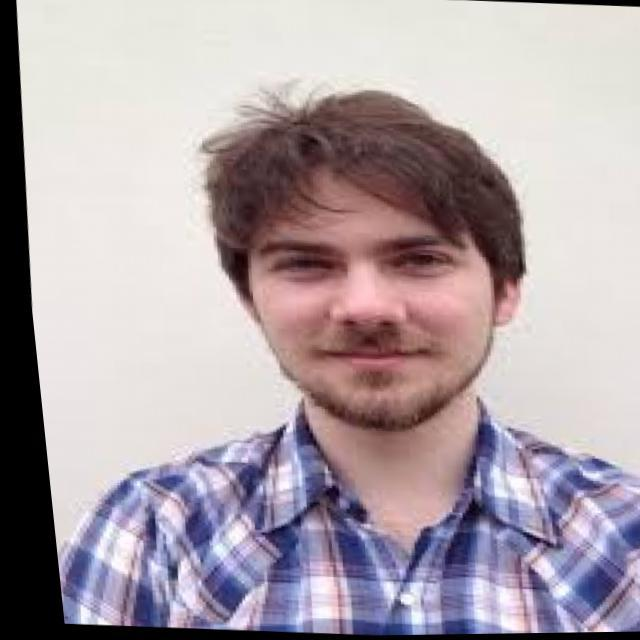Nonhelmet: (194, 81, 532, 432)
